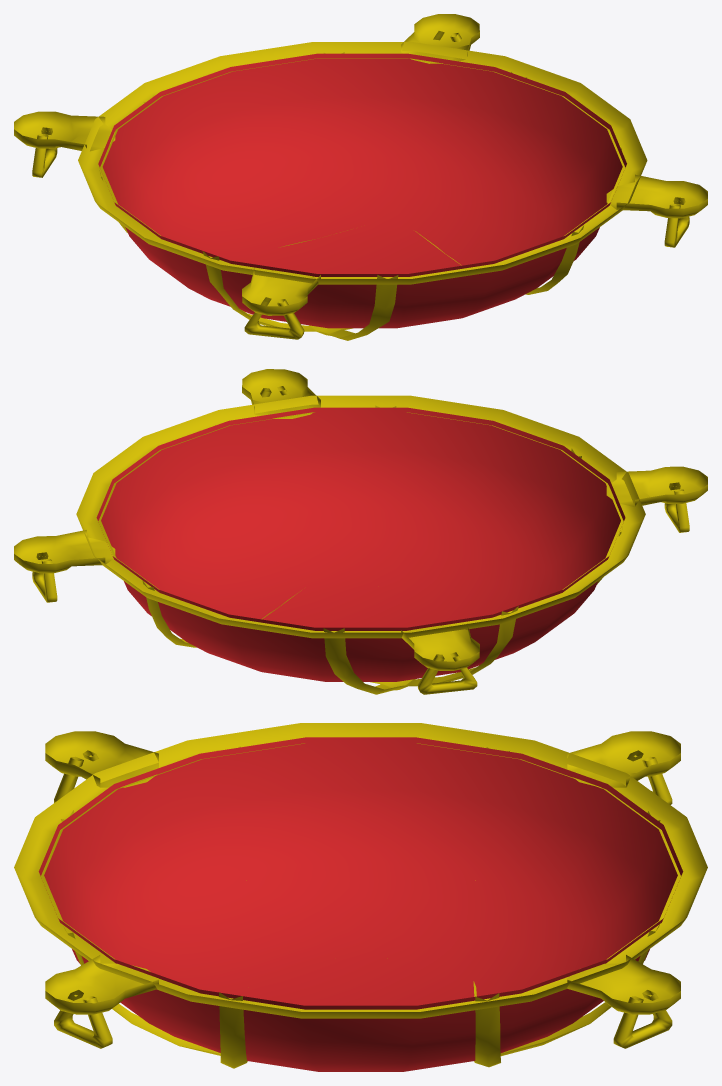
File: SNWP_MOD_BUN_Lamp_01.fbx
3 renders of one model, top to bottom at view 1: azimuth 30°, elevation 25°; view 2: azimuth 150°, elevation 25°; view 3: azimuth 270°, elevation 25°, orthographic. The views are drawn at different scales.
Parts seen in each view (by area): view 1: SNWP_MOD_Bunker_lamp_01; view 2: SNWP_MOD_Bunker_lamp_01; view 3: SNWP_MOD_Bunker_lamp_01.
Boxes of the visible parts, x1=… form: SNWP_MOD_Bunker_lamp_01: x1=14, y1=14, x2=707, y2=340; SNWP_MOD_Bunker_lamp_01: x1=14, y1=369, x2=707, y2=694; SNWP_MOD_Bunker_lamp_01: x1=14, y1=723, x2=707, y2=1071.
Bounding box in the file's own units: 0.5142 × 0.1196 × 0.5221.
